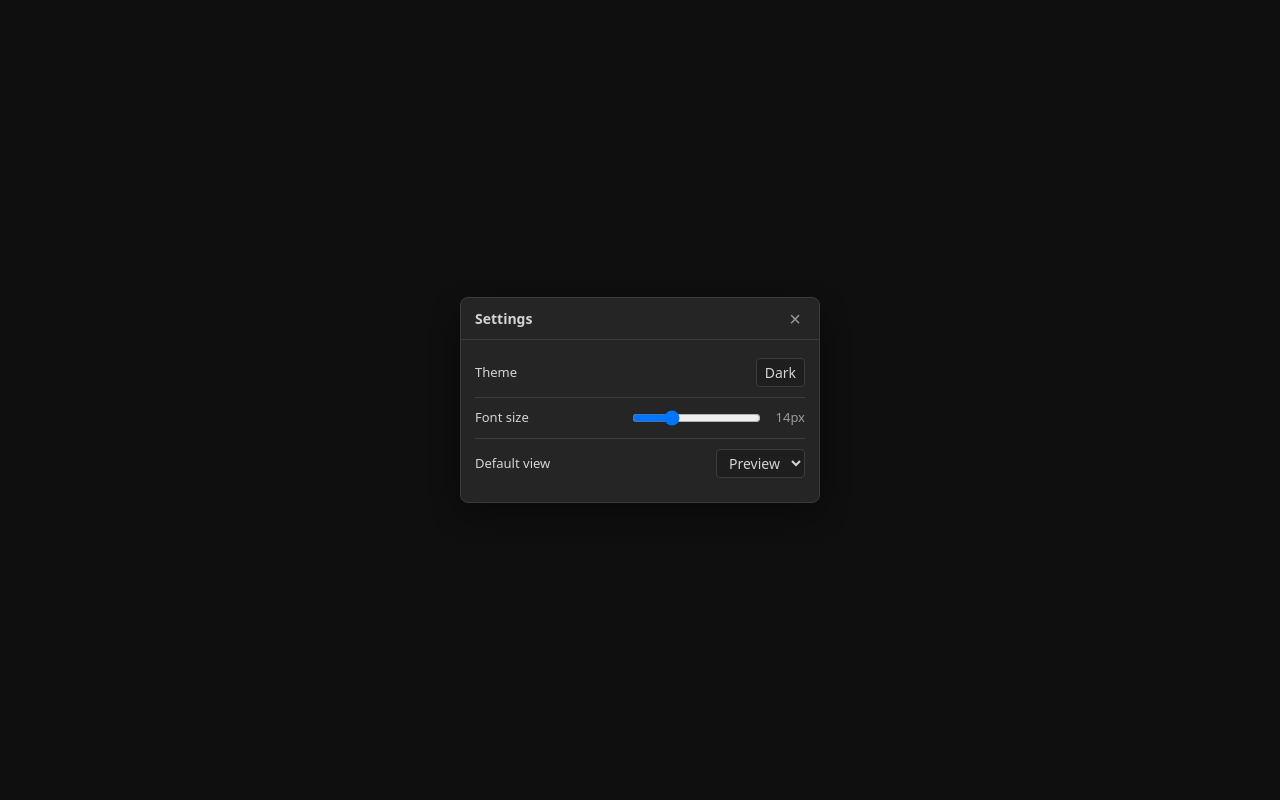
Test: SettingsModal › updates font size from the slider
Set the slider labelled "Font size" to "20" at (721, 418), box [632, 410, 761, 426]
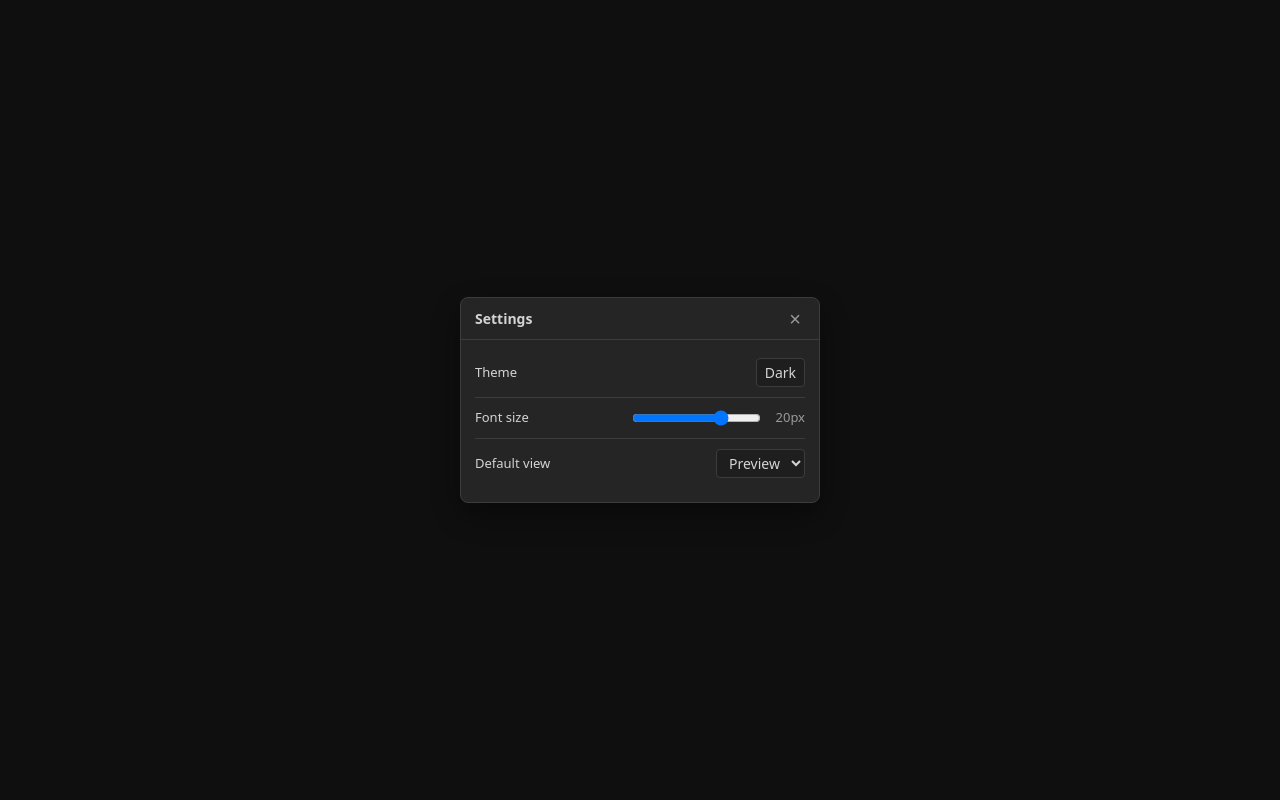
Expected: the text "20px" is shown, [771, 408, 805, 428]
